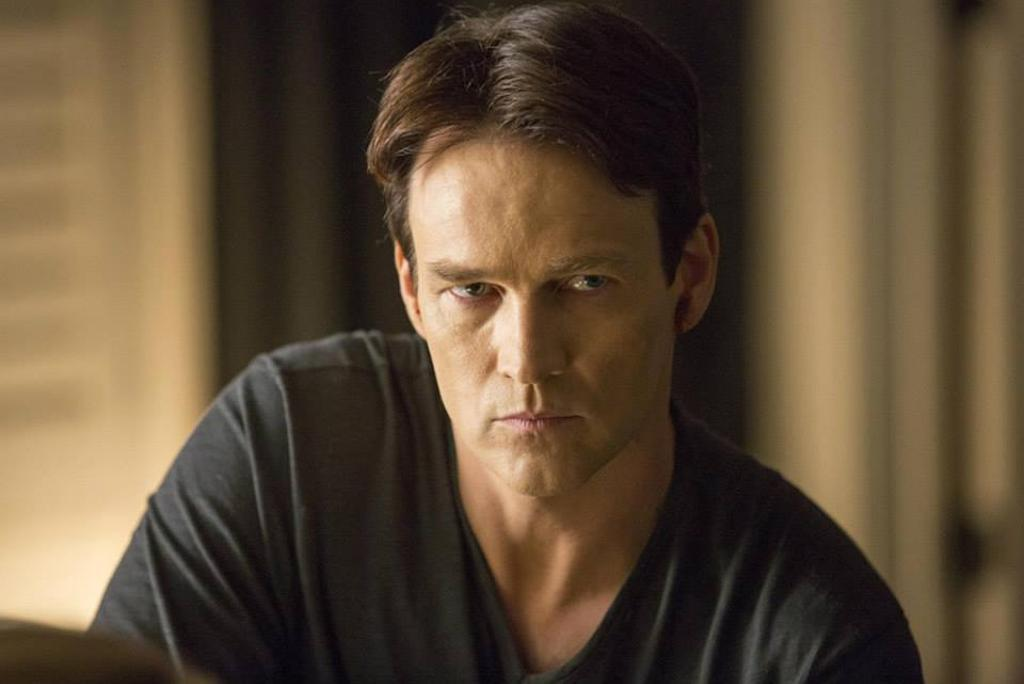face: (419, 145, 663, 495)
